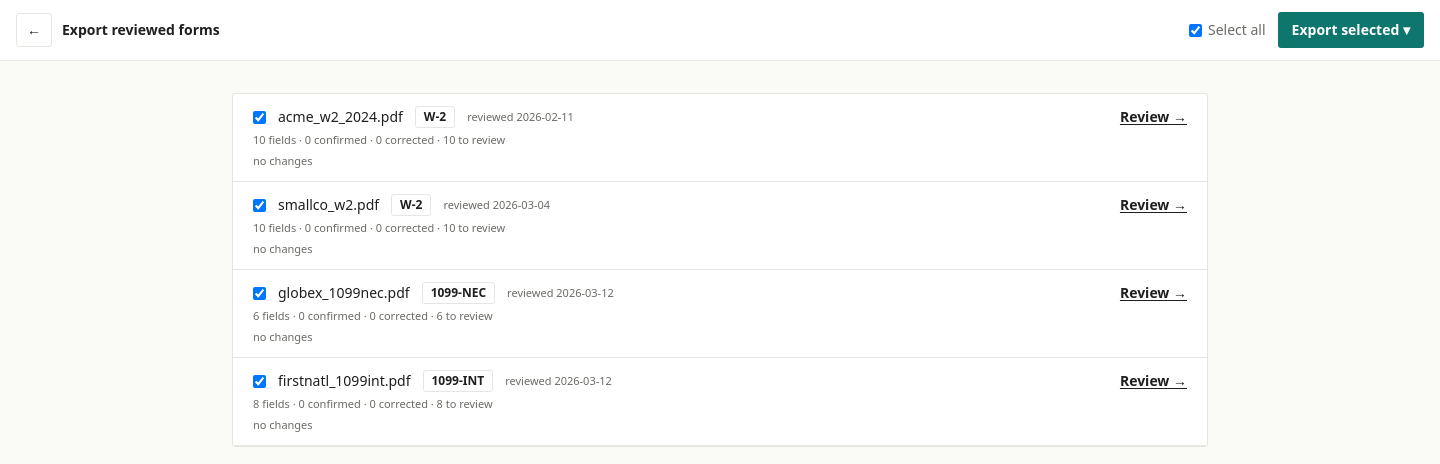
Scenario: export is enabled by default and disabled when all deselected
The image size is (1440, 464).
Check: the button "Export selected ▾" is enabled, box [1278,12,1424,48]
Click the checkbox labelled "Select all" at {"x": 1196, "y": 30}, box [1189,24,1202,36]
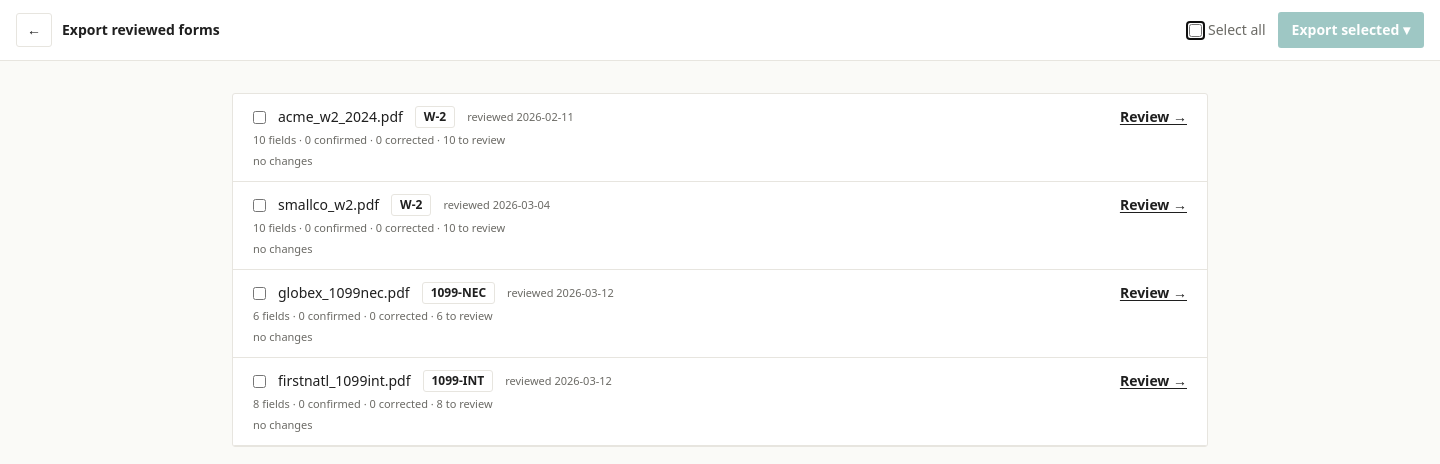
Check: the button "Export selected ▾" is disabled, box [1278,12,1424,48]
